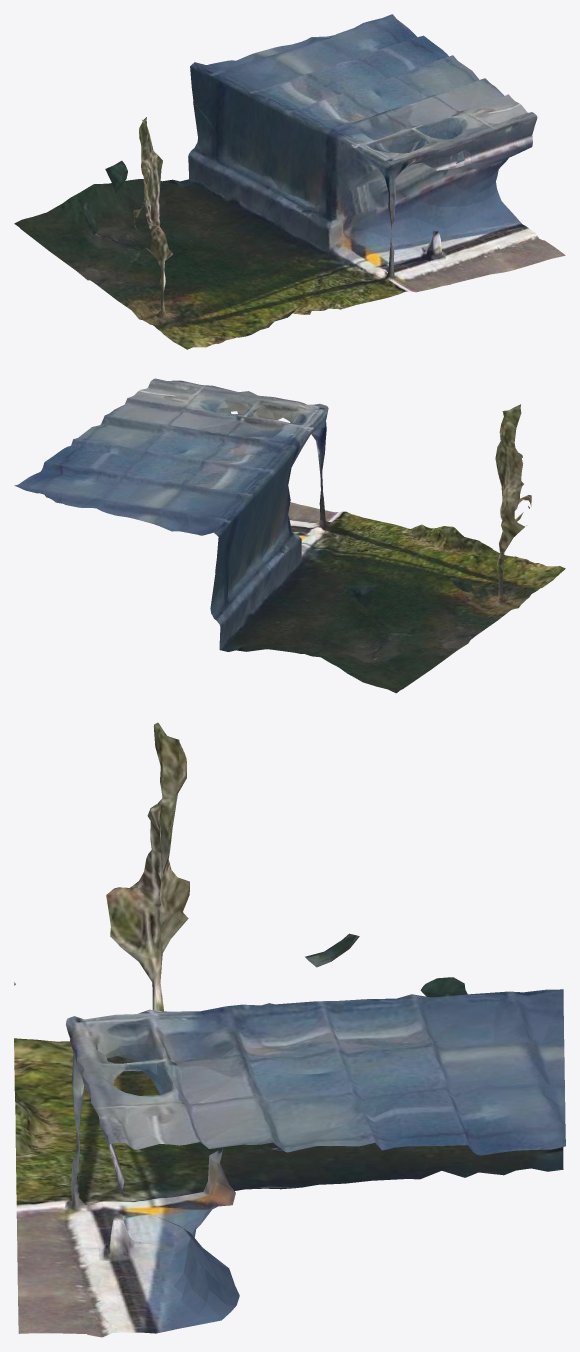
File: Tile_+006_+007_L22_0003310.glb
3 renders of one model, top to bottom at view 1: azimuth 30°, elevation 25°; view 2: azimuth 150°, elevation 25°; view 3: azimuth 270°, elevation 25°, orthographic. The views are drawn at different scales.
Visible parts, largest first — view 1: rtc; view 2: rtc; view 3: rtc.
Part boxes in pixels (x1,y1,x2,y2): rtc: (14, 14, 565, 349); rtc: (14, 378, 565, 693); rtc: (14, 722, 565, 1337).
Bounding box in the file's own units: 8.86 × 4.49 × 6.94.
Materials: 1 (1 with a texture image).
